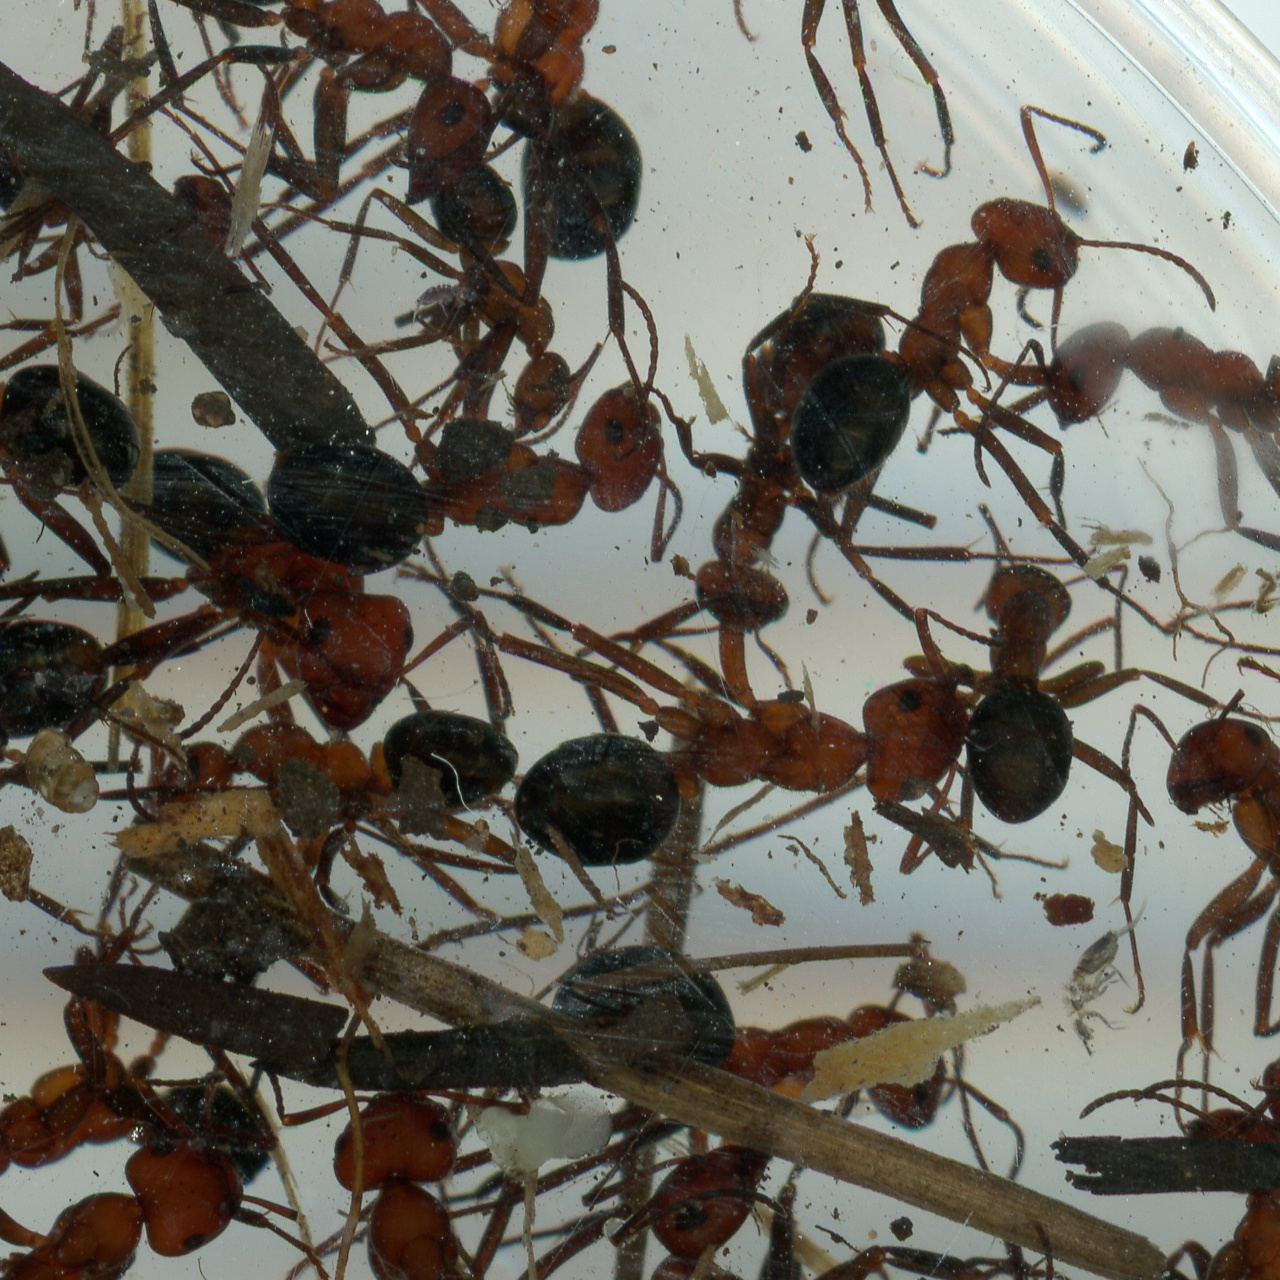arthropod: (741, 72, 1263, 624), (386, 563, 1077, 897), (968, 240, 1280, 719), (263, 268, 711, 574), (0, 433, 438, 729), (529, 929, 1033, 1185), (648, 258, 957, 654), (0, 560, 221, 1027), (625, 0, 1024, 244), (1049, 871, 1280, 1280), (121, 697, 534, 925), (246, 1055, 654, 1280), (298, 136, 606, 427), (944, 486, 1162, 840), (435, 0, 660, 337), (138, 0, 503, 207), (0, 854, 191, 1238), (567, 1119, 1013, 1280), (1109, 683, 1280, 1054), (0, 1123, 342, 1280), (0, 282, 162, 587), (1072, 1075, 1280, 1280), (1060, 889, 1149, 1060), (4, 724, 113, 823), (409, 282, 483, 333)
